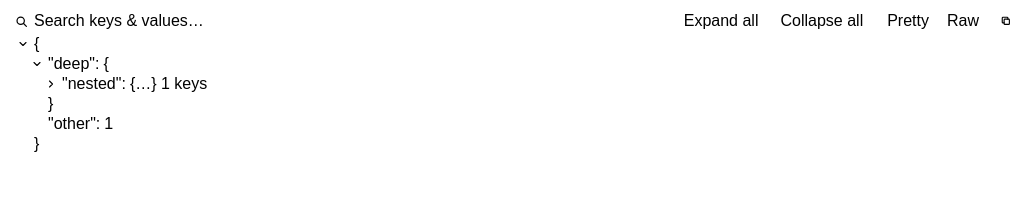
Test: JsonTree › force-expands ancestors of search hits and counts matches
The width and height of the screenshot is (1024, 209).
Type "findme" into the field named "search body" at (145, 21), box top-left (8, 8), bottom-right (282, 34)
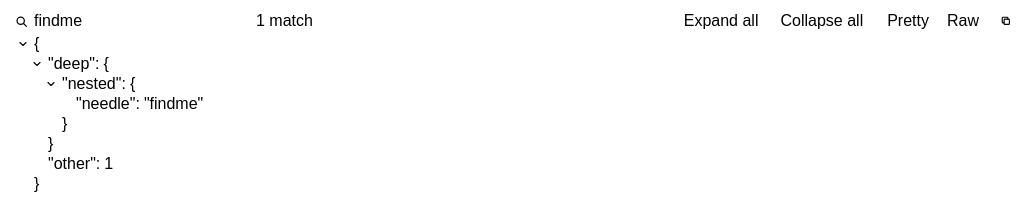
Check: the text "1 match" is shown, box top-left (256, 12), bottom-right (313, 30)
